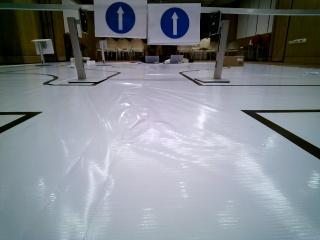straight: (94, 0, 150, 38), (149, 2, 199, 43)
